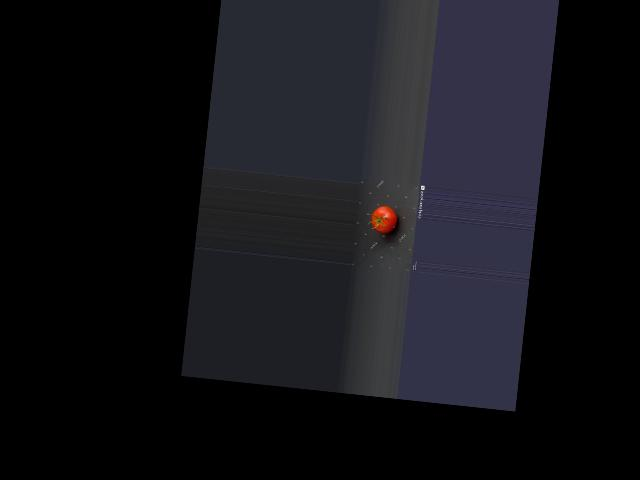tomato: (370, 205, 397, 234)
